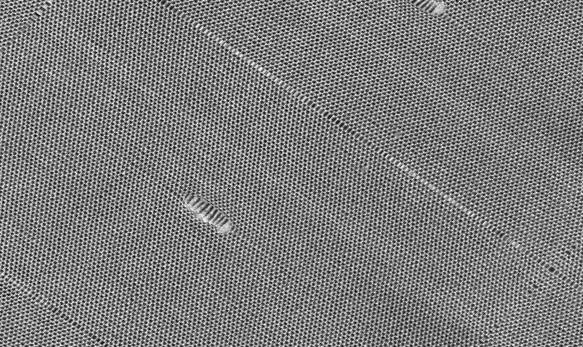slub: (169, 182, 243, 243)
